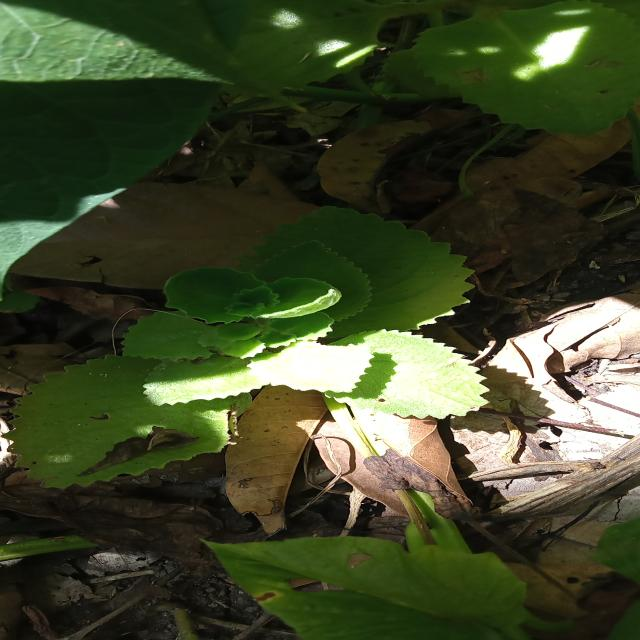Oregano: (138, 257, 442, 398)
